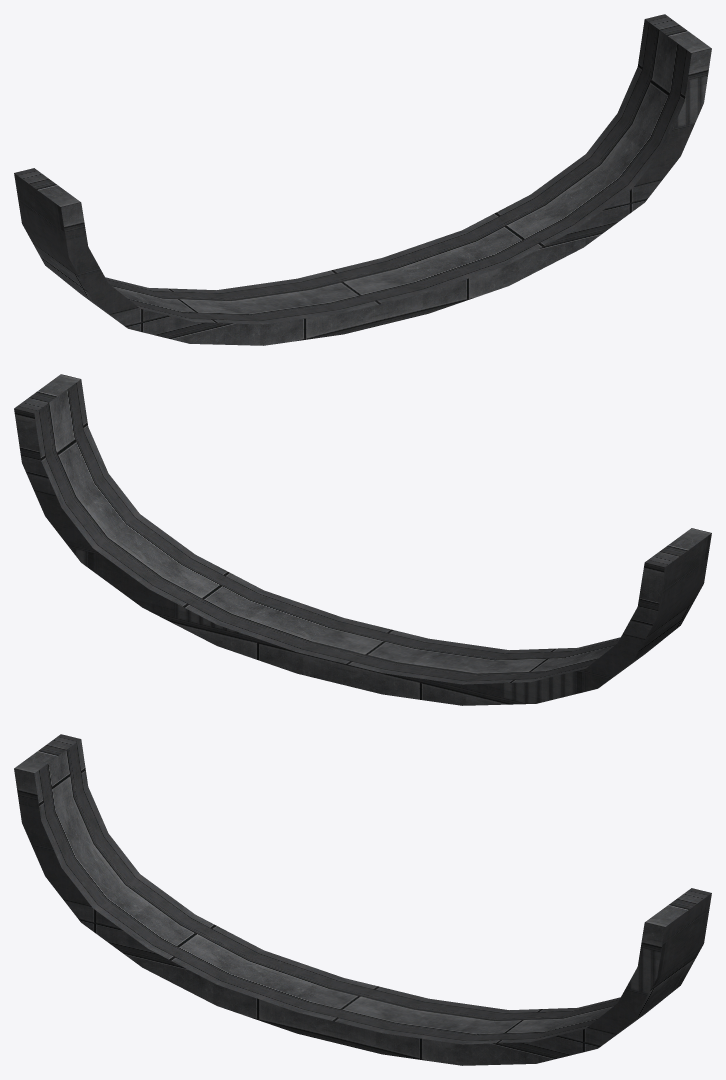
Rendered from Neon_TubeArchB1.FBX.
3 renders of one model, top to bottom at view 1: azimuth 30°, elevation 25°; view 2: azimuth 150°, elevation 25°; view 3: azimuth 330°, elevation 25°, orthographic.
Parts seen in each view (by area): view 1: Neon_TubeArchB1; view 2: Neon_TubeArchB1; view 3: Neon_TubeArchB1.
Part boxes in pixels (box(x1,y1,x2,y2)): Neon_TubeArchB1: box(14, 14, 711, 345); Neon_TubeArchB1: box(14, 374, 711, 705); Neon_TubeArchB1: box(14, 734, 711, 1065).
Bounding box in the file's own units: 32 × 9.21 × 4.
